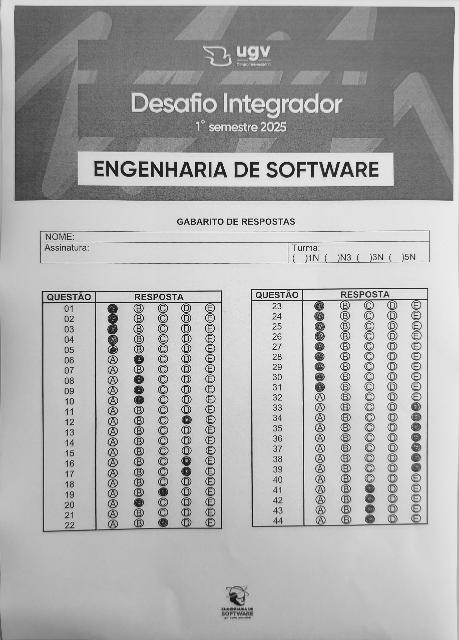bolinha: (153, 486, 175, 496), (312, 331, 328, 342), (408, 421, 424, 432), (156, 516, 170, 528), (313, 340, 327, 352), (180, 467, 196, 477), (408, 432, 424, 442), (313, 351, 327, 362), (313, 361, 327, 372), (107, 334, 122, 344), (364, 482, 376, 494), (106, 314, 120, 324), (106, 324, 120, 334), (179, 415, 193, 425), (180, 456, 194, 466), (314, 322, 328, 332), (313, 372, 327, 382), (409, 412, 423, 422), (409, 442, 423, 452), (363, 515, 377, 525), (410, 401, 422, 412), (314, 310, 327, 320), (363, 494, 376, 504), (363, 503, 376, 513), (133, 354, 145, 364), (132, 375, 144, 385), (314, 300, 326, 310), (314, 382, 326, 392), (410, 452, 422, 462), (132, 396, 146, 404), (108, 344, 119, 354), (132, 498, 144, 507), (410, 463, 422, 472), (107, 305, 119, 313), (133, 386, 145, 394)
